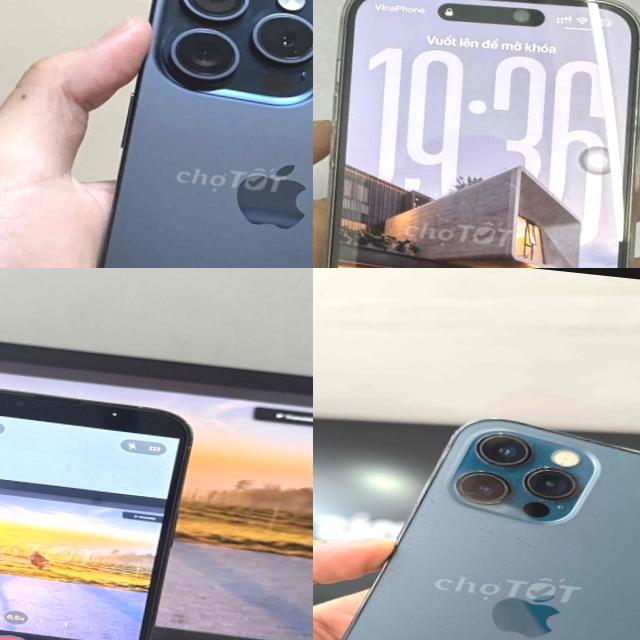gen_12_13: (313, 395, 640, 640), (0, 371, 199, 640)
gen_14: (313, 0, 640, 268)
gen_15: (18, 0, 313, 268)
